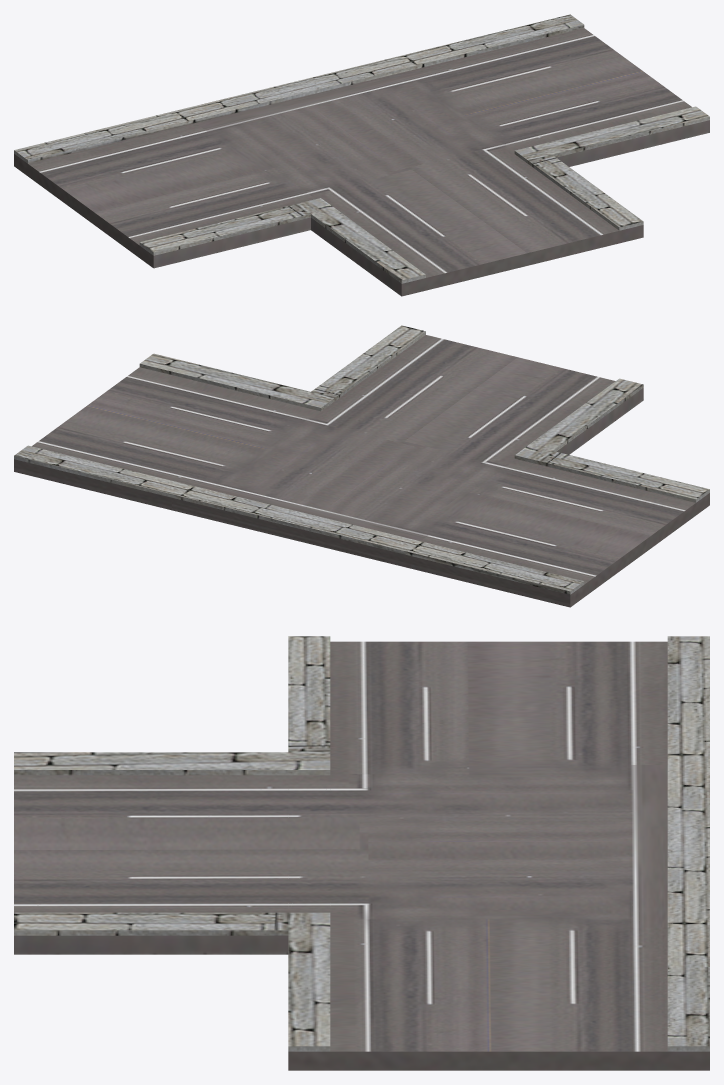
File: T Road(Large).FBX
The picture shows the model from 3 angles, top to bottom: view 1: azimuth 30°, elevation 25°; view 2: azimuth 150°, elevation 25°; view 3: azimuth 270°, elevation 25°; orthographic projection. The views are drawn at different scales.
Parts seen in each view (by area): view 1: T Road(Large); view 2: T Road(Large); view 3: T Road(Large).
Part boxes in pixels (x1,y1,x2,y2): T Road(Large): [14, 14, 709, 296]; T Road(Large): [14, 325, 709, 607]; T Road(Large): [14, 636, 709, 1070].
Bounding box in the file's own units: 2300 × 63.69 × 1650.
